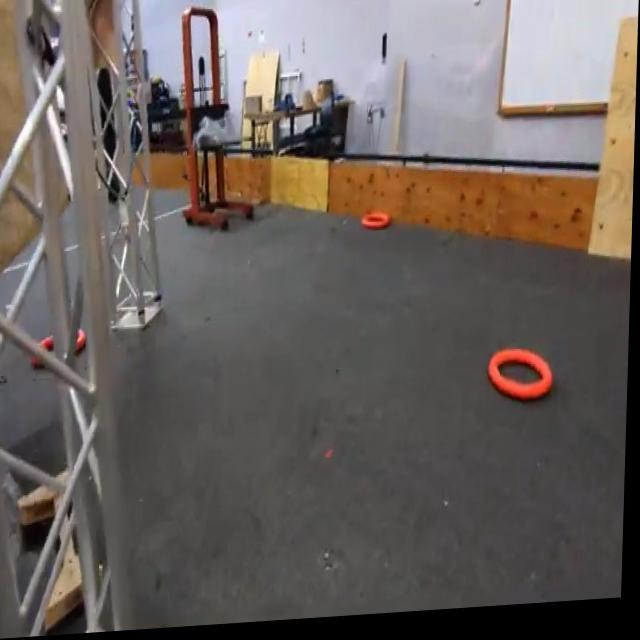note: (490, 354, 559, 412), (32, 330, 89, 368), (362, 216, 393, 237)
